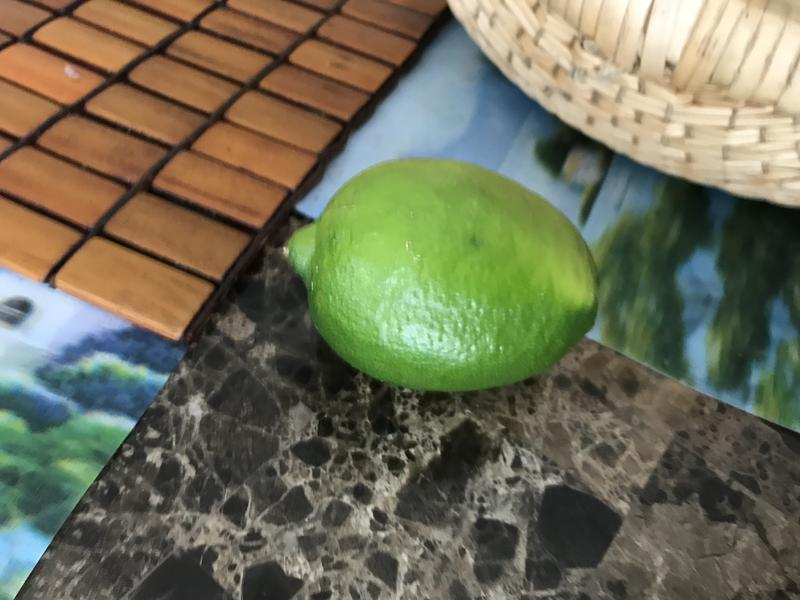lime: (275, 142, 605, 402)
